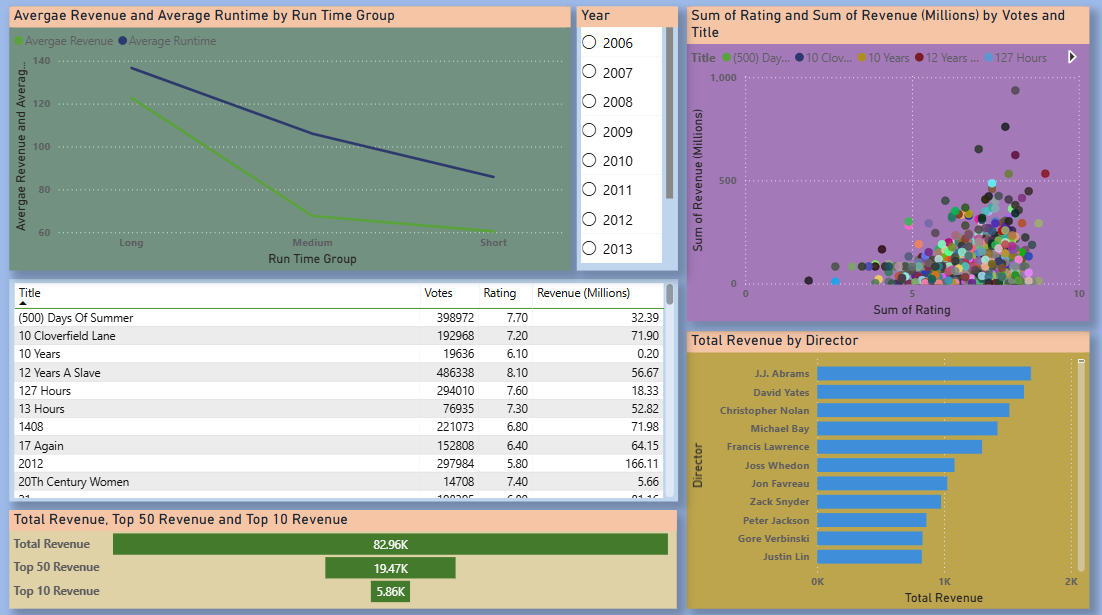

Layout of this report page (visuals, bound fields, positions):
{"tool":"powerbi","page":{"name":"Top Performers","canvas":[1280,720],"ordinal":2},"visuals":[{"type":"barChart","fields":{"Category":["IMDB-Movie-Data.Director"],"Y":["IMDB-Movie-Data.Total Revenue"]},"box":[795,412.6,464.6,297.2],"z":0},{"type":"tableEx","fields":{"Values":["IMDB-Movie-Data.Title","IMDB-Movie-Data.Votes","IMDB-Movie-Data.Rating","IMDB-Movie-Data.Revenue (Millions)"]},"box":[13,372.2,771.9,225.1],"z":1000},{"type":"scatterChart","fields":{"Category":["IMDB-Movie-Data.Votes"],"Series":["IMDB-Movie-Data.Title"],"X":["Sum(IMDB-Movie-Data.Rating)"],"Y":["Sum(IMDB-Movie-Data.Revenue (Millions))"]},"box":[795,86.6,464.6,316],"z":2000},{"type":"funnel","fields":{"Y":["IMDB-Movie-Data.Total Revenue","IMDB-Movie-Data.Top 50 Revenue","IMDB-Movie-Data.Top 10 Revenue"]},"box":[13.2,605.2,770.6,104.3],"z":9000},{"type":"lineChart","fields":{"Category":["IMDB-Movie-Data.Run Time Group"],"Y":["IMDB-Movie-Data.Avergae Revenue","IMDB-Movie-Data.Average Runtime"]},"box":[13,86.6,647.8,274.1],"z":9001},{"type":"listSlicer","fields":{"Values":["IMDB-Movie-Data.Year"]},"box":[668,86.6,116.9,274.1],"z":9002},{"type":"textbox","box":[10.1,0,1246.5,76.5],"z":9003}]}

Visuals, with their boxes in screenshot pixels (x1, y1, x2, y2), scaled from the page's 1280x720 canvas onto the 1102x615 screenshot:
barChart - IMDB-Movie-Data.Director x IMDB-Movie-Data.Total Revenue: 684, 352, 1084, 606
tableEx - IMDB-Movie-Data.Title x IMDB-Movie-Data.Votes: 11, 318, 676, 510
scatterChart - IMDB-Movie-Data.Votes x IMDB-Movie-Data.Title: 684, 74, 1084, 344
funnel - IMDB-Movie-Data.Total Revenue x IMDB-Movie-Data.Top 50 Revenue: 11, 517, 675, 606
lineChart - IMDB-Movie-Data.Run Time Group x IMDB-Movie-Data.Avergae Revenue: 11, 74, 569, 308
listSlicer - IMDB-Movie-Data.Year: 575, 74, 676, 308
textbox: 9, 0, 1082, 65
